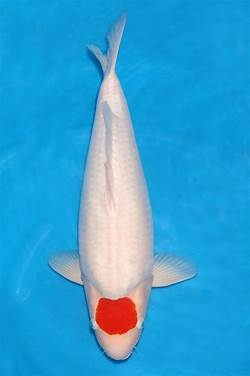sun: (48, 11, 197, 362)
